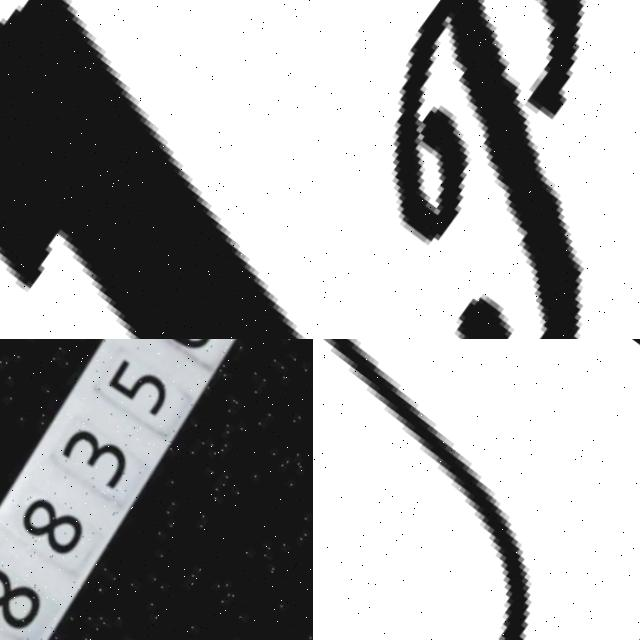0: (125, 339, 243, 373)
1: (0, 0, 313, 339)
3: (35, 393, 157, 511)
5: (83, 339, 194, 435)
8: (0, 465, 112, 579), (0, 532, 73, 640)
U: (313, 339, 640, 640)
